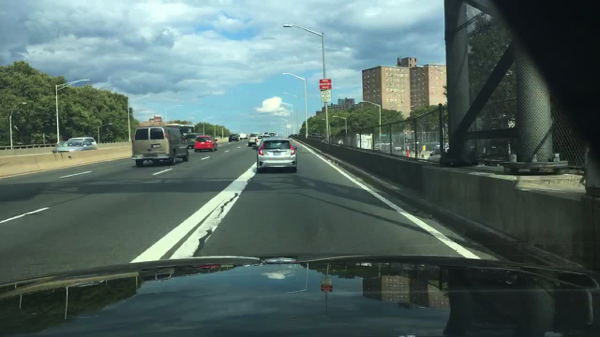bus: (165, 123, 195, 136)
car: (131, 124, 189, 168), (256, 137, 299, 175), (54, 140, 96, 153), (68, 137, 98, 150), (194, 137, 218, 153), (184, 132, 204, 149), (255, 134, 274, 149), (249, 132, 260, 147), (374, 143, 390, 150), (228, 133, 239, 143), (263, 132, 277, 138), (429, 142, 439, 150), (392, 145, 403, 152), (442, 142, 449, 150), (239, 133, 248, 139), (336, 140, 345, 146)
traffic sign: (320, 90, 330, 102)
truck: (352, 133, 373, 150)
